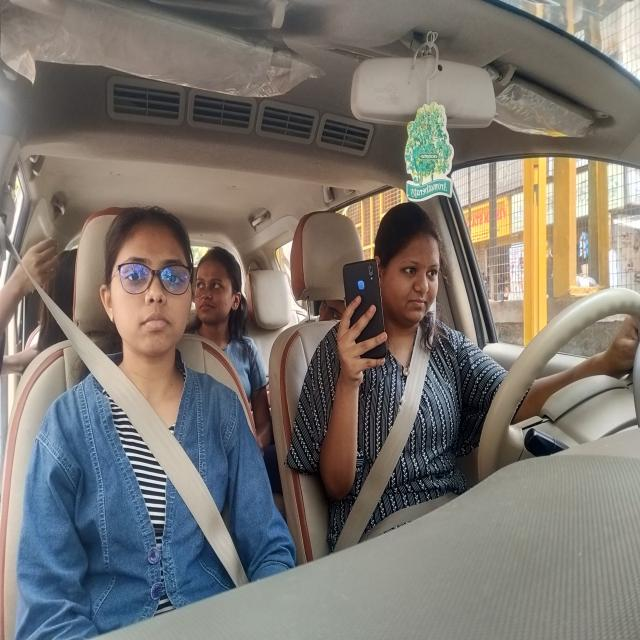mobile: (339, 253, 394, 361)
person: (111, 220, 198, 352), (385, 202, 446, 328), (196, 258, 238, 326)
